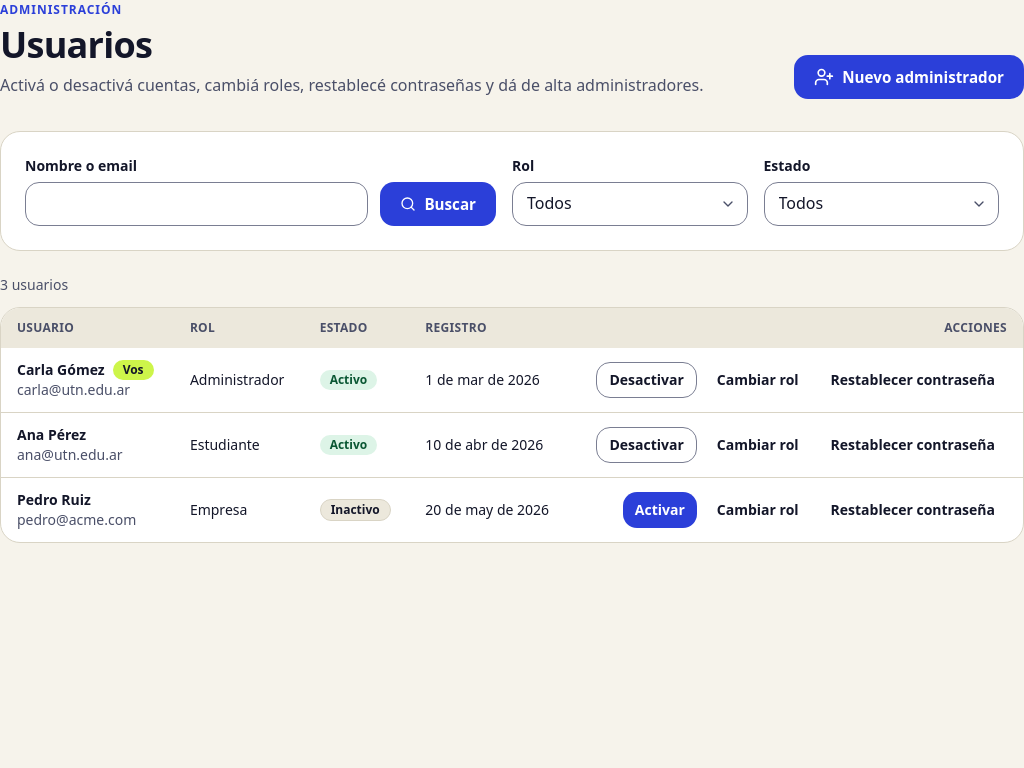
Test: UsuariosAdminPage › desactiva a un usuario después de confirmar y recarga la lista
Click the button with aria-label "Desactivar a Ana Pérez": [647, 445] box [596,427,697,463]
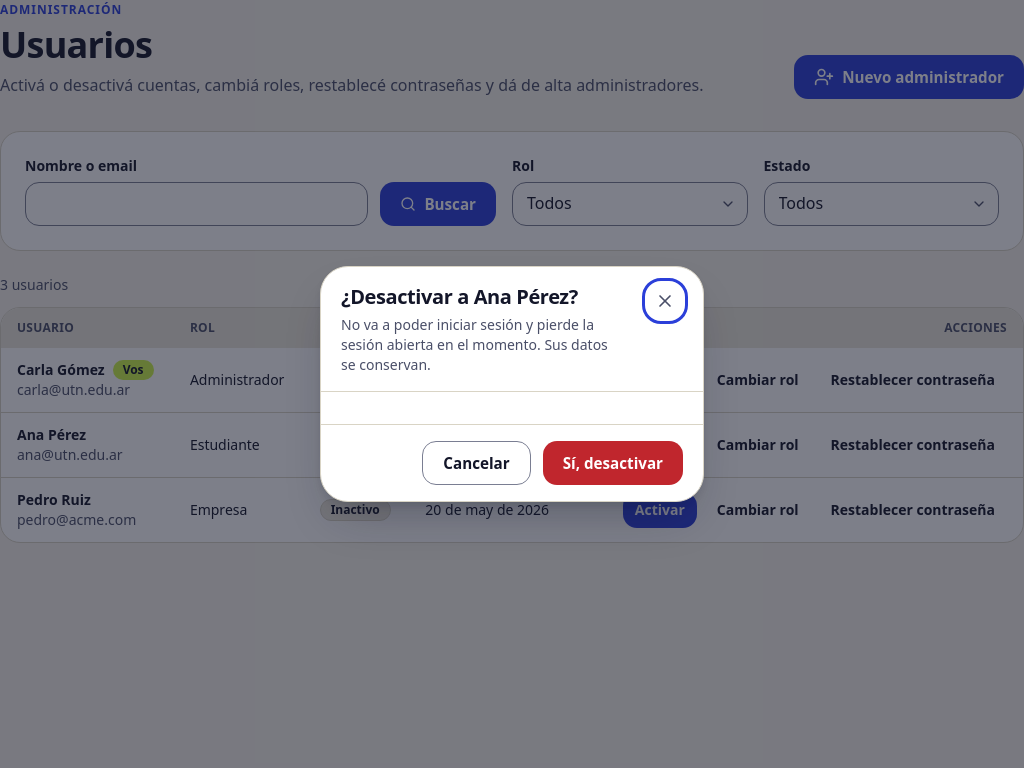
Click the button "Sí, desactivar": [613, 463] box [543,441,683,485]
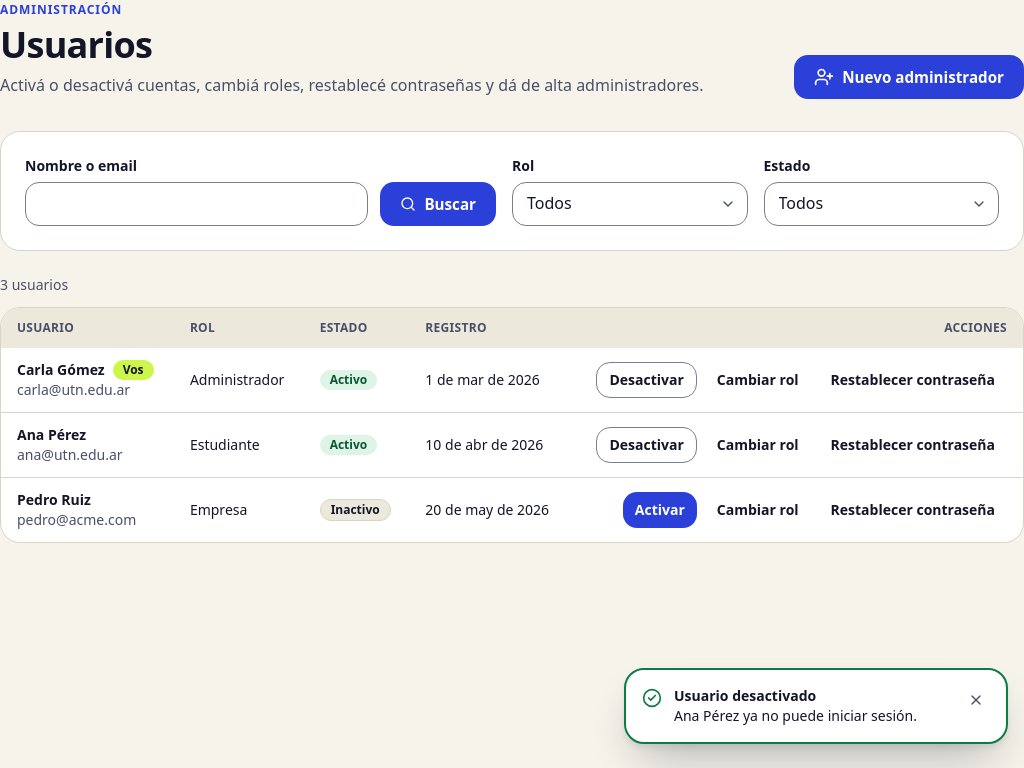
Check: the text "Ana Pérez ya no puede iniciar sesión." is shown, box [674,706,950,726]
